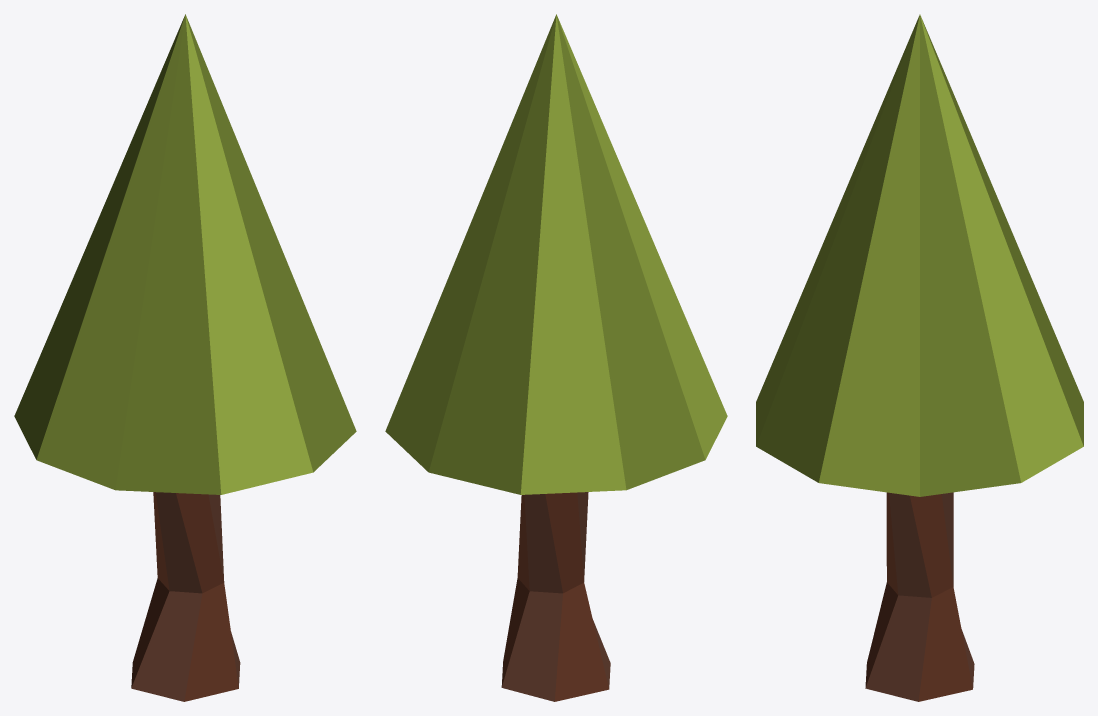
File: tree3.fbx
The picture shows the model from 3 angles, left to right: view 1: azimuth 30°, elevation 25°; view 2: azimuth 150°, elevation 25°; view 3: azimuth 270°, elevation 25°; orthographic projection.
Visible parts, largest first — view 1: Ağaç3_Mesh; view 2: Ağaç3_Mesh; view 3: Ağaç3_Mesh.
Boxes of the visible parts, x1,y1,x2,y2 form: Ağaç3_Mesh: (14, 14, 356, 701); Ağaç3_Mesh: (385, 14, 727, 701); Ağaç3_Mesh: (756, 14, 1083, 701).
Bounding box in the file's own units: 1.67 × 3.54 × 1.59.
